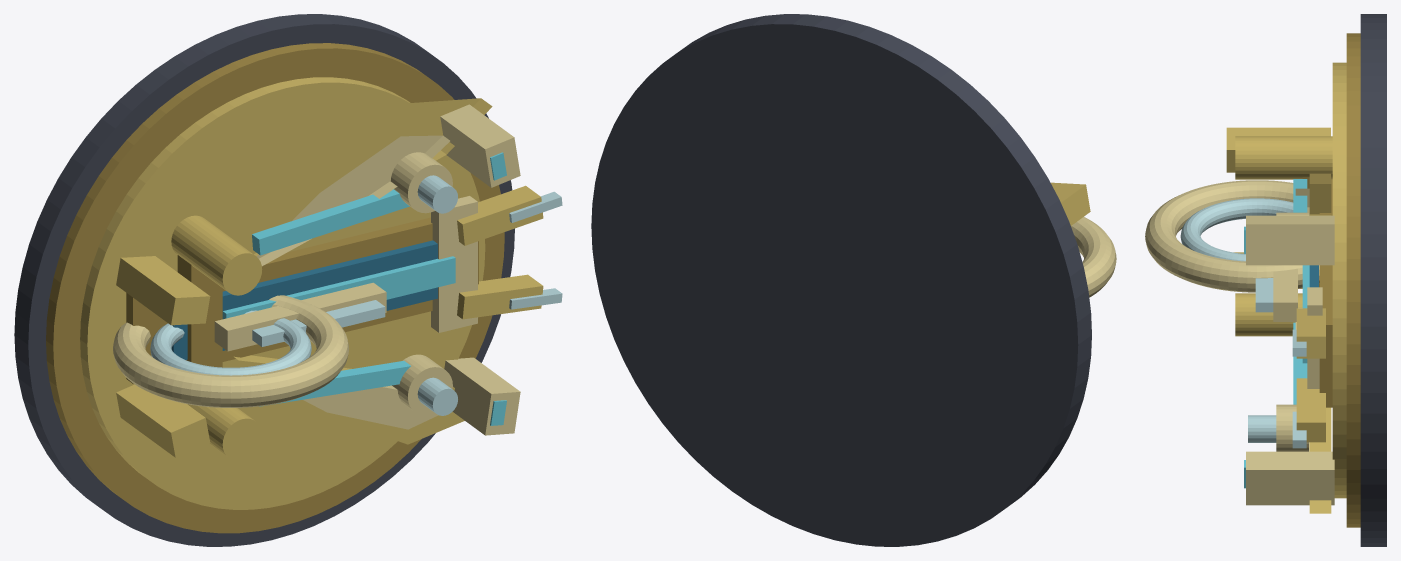
Rendered from helias_stargate.glb.
3 renders of one model, left to right at view 1: azimuth 30°, elevation 25°; view 2: azimuth 150°, elevation 25°; view 3: azimuth 270°, elevation 25°, orthographic. The views are drawn at different scales.
Visible parts, largest first — view 1: Helias_Stargate; view 2: Helias_Stargate; view 3: Helias_Stargate.
Boxes of the visible parts, <box> form: Helias_Stargate: <box>14,14,562,546</box>; Helias_Stargate: <box>591,14,1116,546</box>; Helias_Stargate: <box>1145,14,1386,546</box>.
Size of the model in its own units: 7.06 by 6.9 by 3.13.
